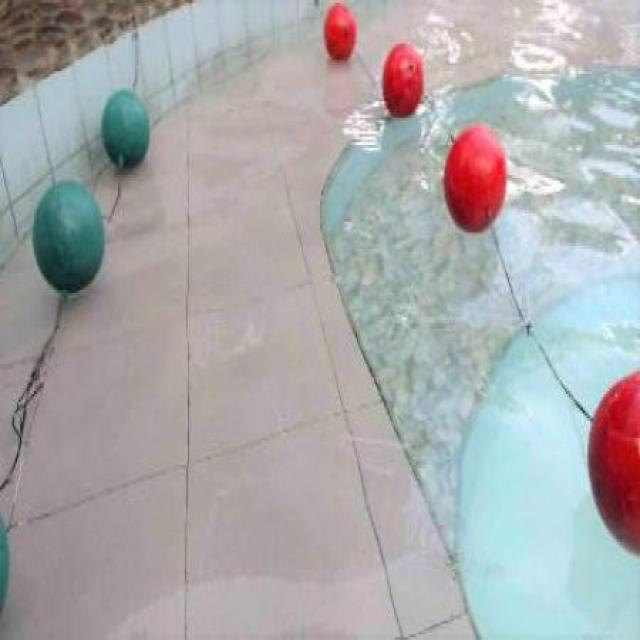buoy: (587, 370, 638, 560), (31, 178, 104, 293), (442, 125, 506, 231), (100, 89, 150, 168), (380, 41, 424, 118), (323, 2, 357, 63)
